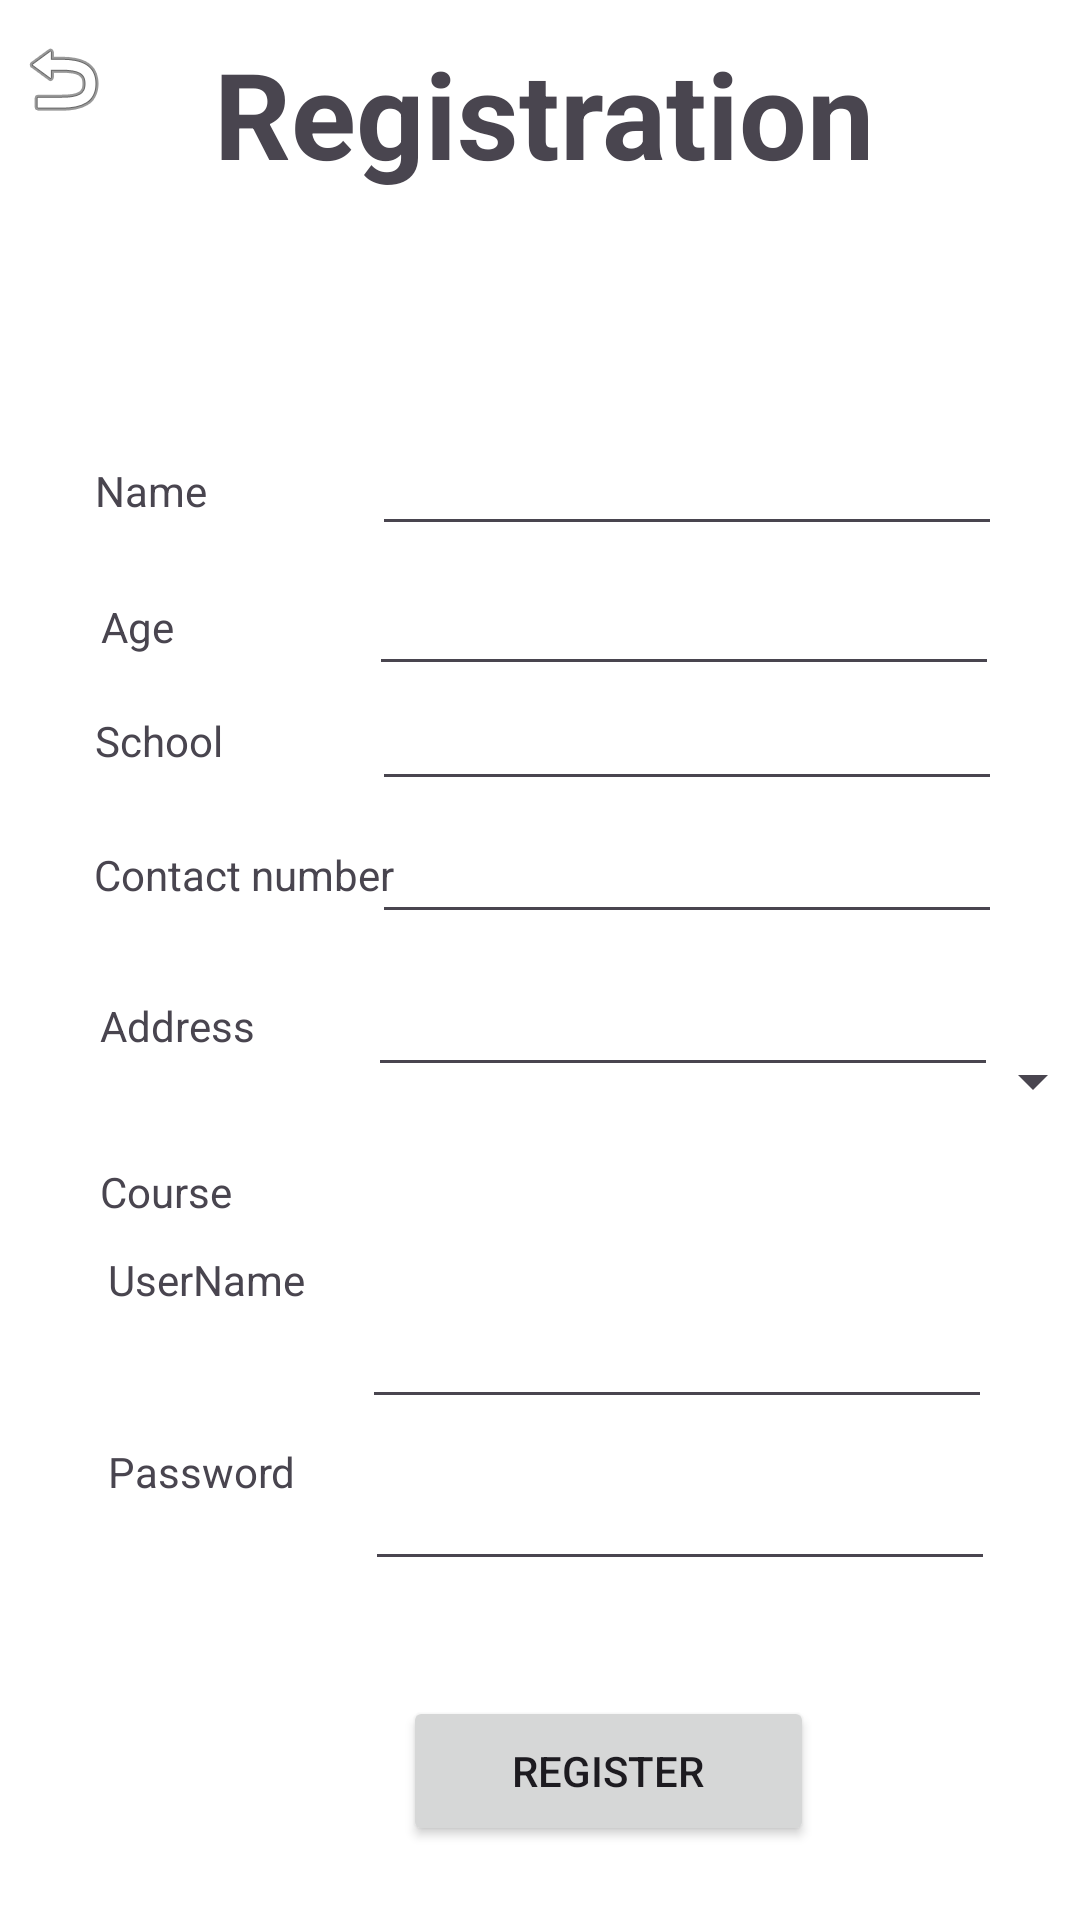

Screen size 1080 × 1920. Icon name, then its box in pixels as detection(x1, y1, x2, y2):
revert: detection(30, 48, 99, 111)
